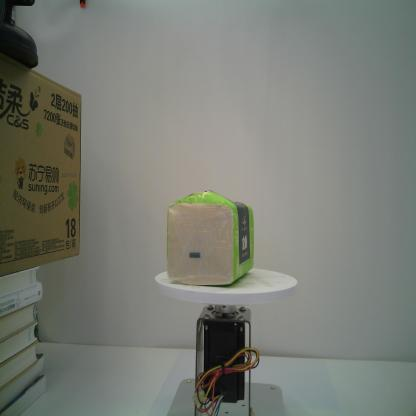Tissue: (166, 188, 256, 288)
